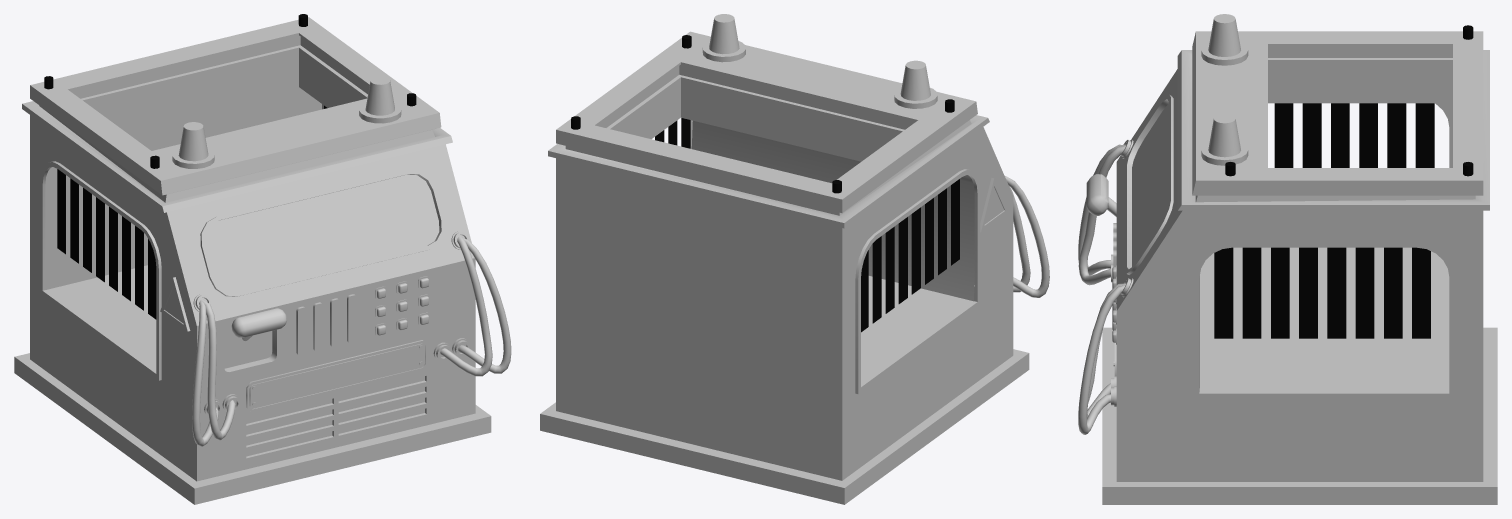
File: Machn_v2_5.fbx
3 renders of one model, left to right at view 1: azimuth 30°, elevation 25°; view 2: azimuth 150°, elevation 25°; view 3: azimuth 270°, elevation 25°, orthographic. The views are drawn at different scales.
Parts seen in each view (by area): view 1: Machn_v2_5, Plane_1.005, AlertOrange.016, AlertOrange.015, Pc.009; view 2: Machn_v2_5, Plane_1.005, AlertOrange.015, AlertOrange.016, Plane_2.005; view 3: Machn_v2_5, Plane_2.005, Plane_1.005, AlertOrange.015, AlertOrange.016, Pc.009.
Part boxes in pixels (x1,y1,x2,y2): Machn_v2_5: [14, 14, 511, 504]; Plane_1.005: [57, 169, 156, 319]; AlertOrange.016: [359, 76, 401, 123]; AlertOrange.015: [172, 122, 214, 168]; Pc.009: [231, 308, 286, 340]; Machn_v2_5: [540, 31, 1049, 504]; Plane_1.005: [861, 179, 959, 332]; AlertOrange.015: [894, 60, 937, 108]; AlertOrange.016: [702, 14, 745, 62]; Plane_2.005: [655, 118, 690, 148]; Machn_v2_5: [1078, 25, 1497, 504]; Plane_2.005: [1214, 247, 1430, 338]; Plane_1.005: [1274, 103, 1434, 167]; AlertOrange.015: [1201, 14, 1248, 65]; AlertOrange.016: [1201, 114, 1248, 165]; Pc.009: [1086, 174, 1116, 216].
Size of the model in its own units: 282 by 275 by 293.
